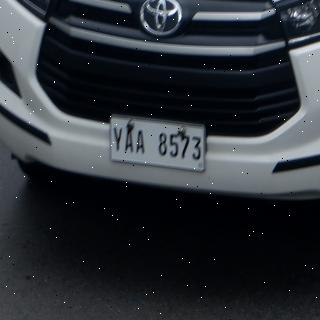license: (111, 116, 207, 173)
